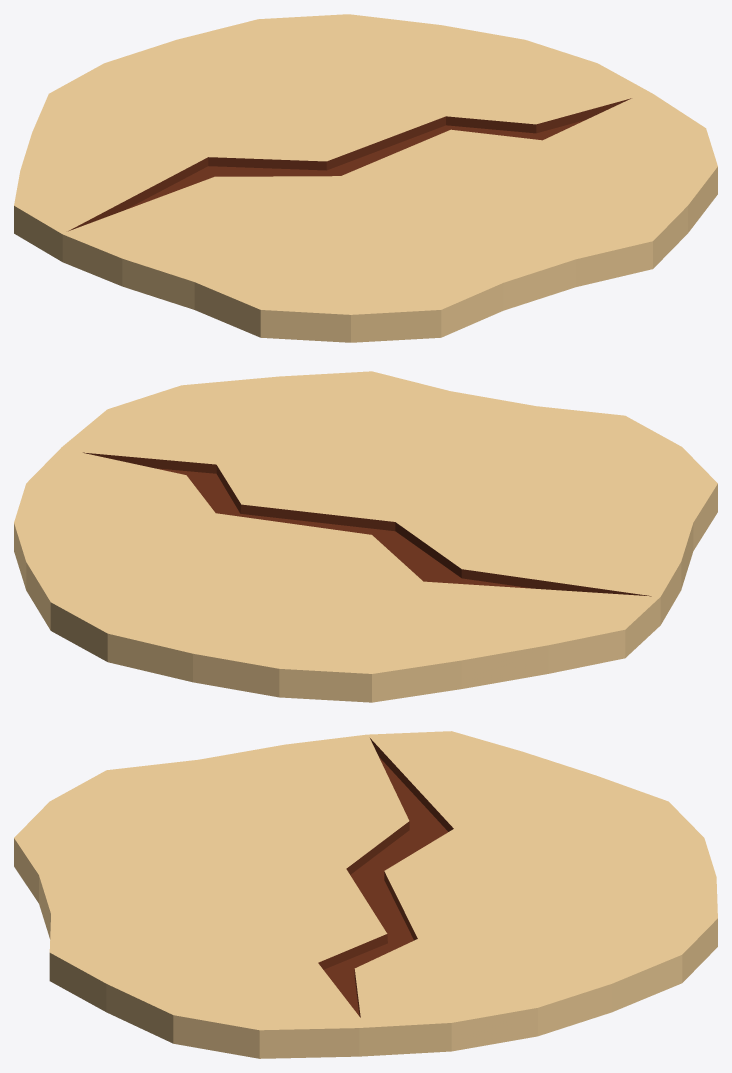
Rendered from Stump Breakable.fbx.
3 renders of one model, top to bottom at view 1: azimuth 30°, elevation 25°; view 2: azimuth 150°, elevation 25°; view 3: azimuth 270°, elevation 25°, orthographic. The views are drawn at different scales.
Visible parts, largest first — view 1: Stump Breakable; view 2: Stump Breakable; view 3: Stump Breakable.
Part boxes in pixels (x1,y1,x2,y2): Stump Breakable: (14, 14, 717, 342); Stump Breakable: (14, 371, 717, 702); Stump Breakable: (14, 731, 717, 1058).
Size of the model in its own units: 1770 by 78.9 by 1761.
